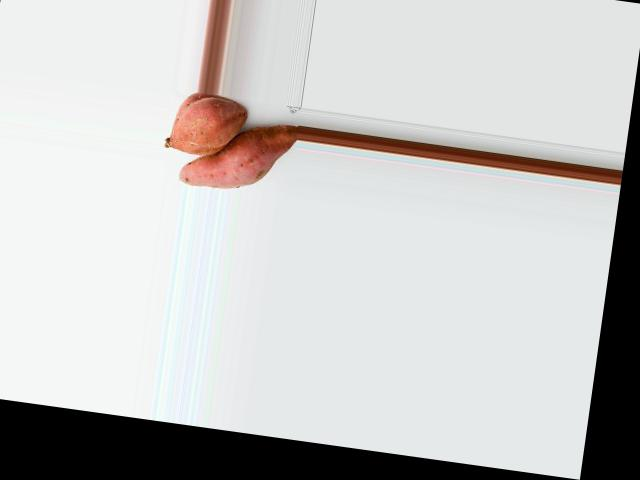sweet_potato: (163, 96, 244, 155)
